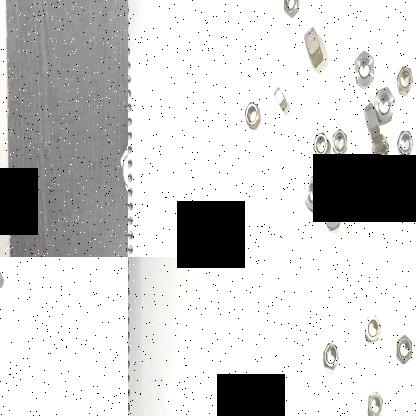Bolts: (120, 127, 128, 207)
NUTS: (353, 43, 376, 94), (302, 22, 325, 72), (321, 189, 345, 236), (302, 172, 326, 217), (374, 85, 396, 131), (361, 99, 383, 141), (395, 329, 415, 371), (362, 310, 384, 348), (395, 126, 415, 162), (376, 160, 398, 192), (370, 133, 392, 165), (396, 63, 415, 99), (311, 128, 331, 162), (332, 126, 352, 160), (321, 340, 340, 372), (271, 84, 289, 116), (244, 100, 262, 132), (365, 388, 385, 416), (281, 0, 301, 19)
